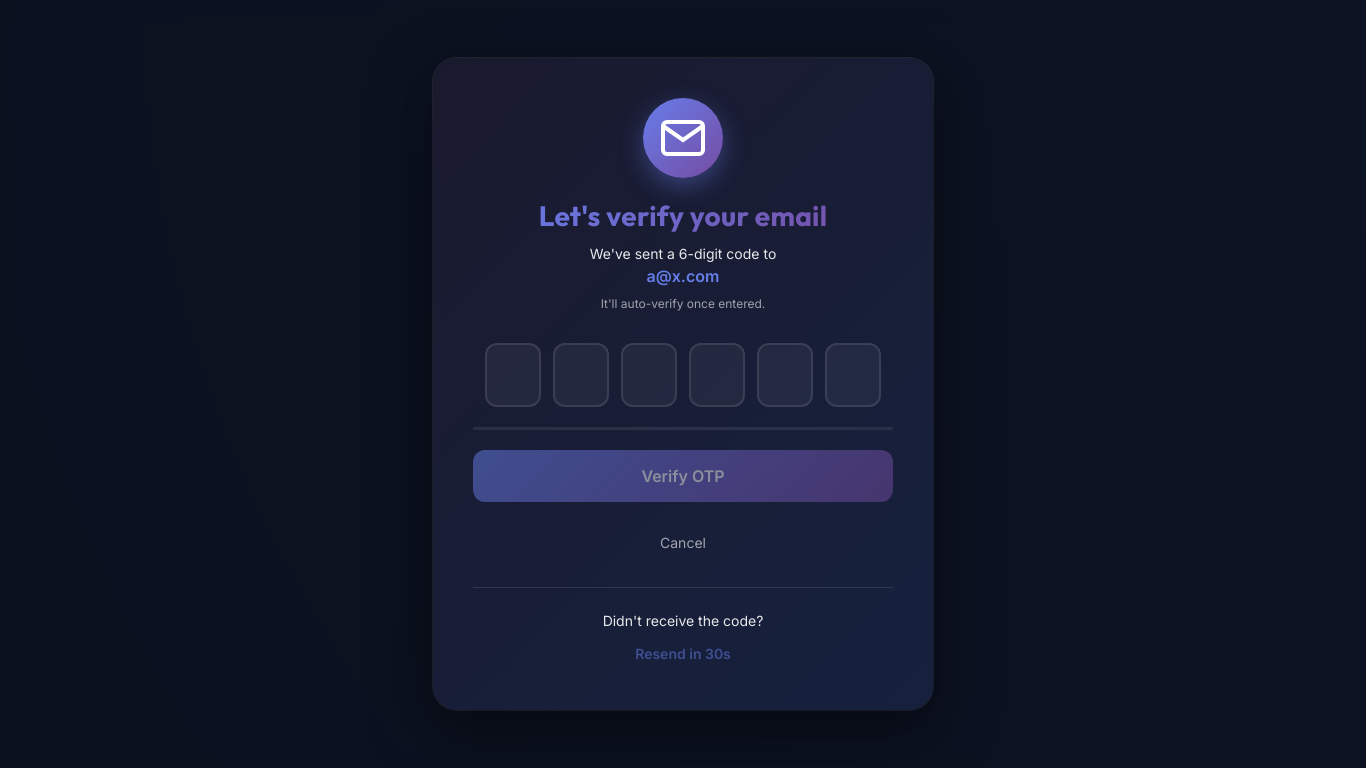
Test: a wrong code shows the server message and clears the boxes
Type "0" into the 1st field with class "otp-input" at (513, 375), box [487, 345, 539, 405]
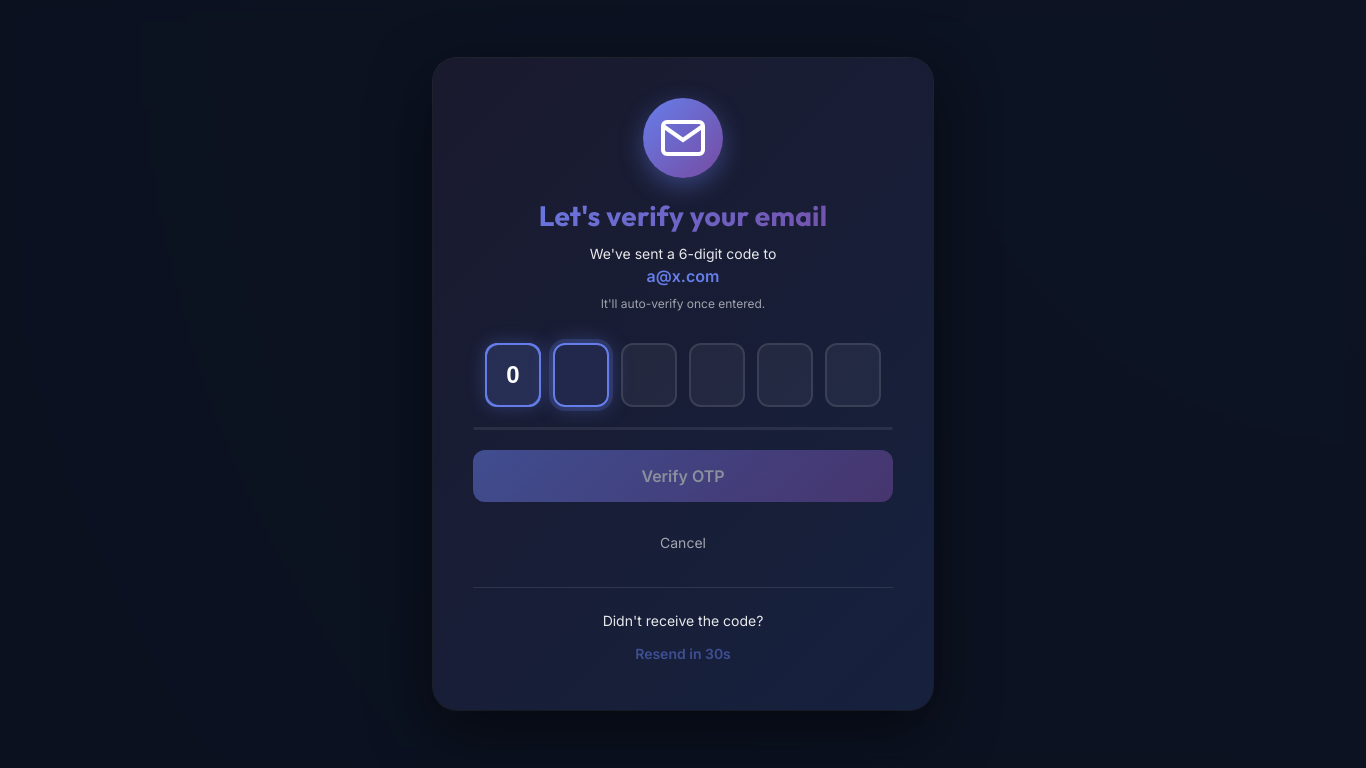
Type "0" into the 2nd field with class "otp-input" at (581, 375), box [555, 345, 607, 405]
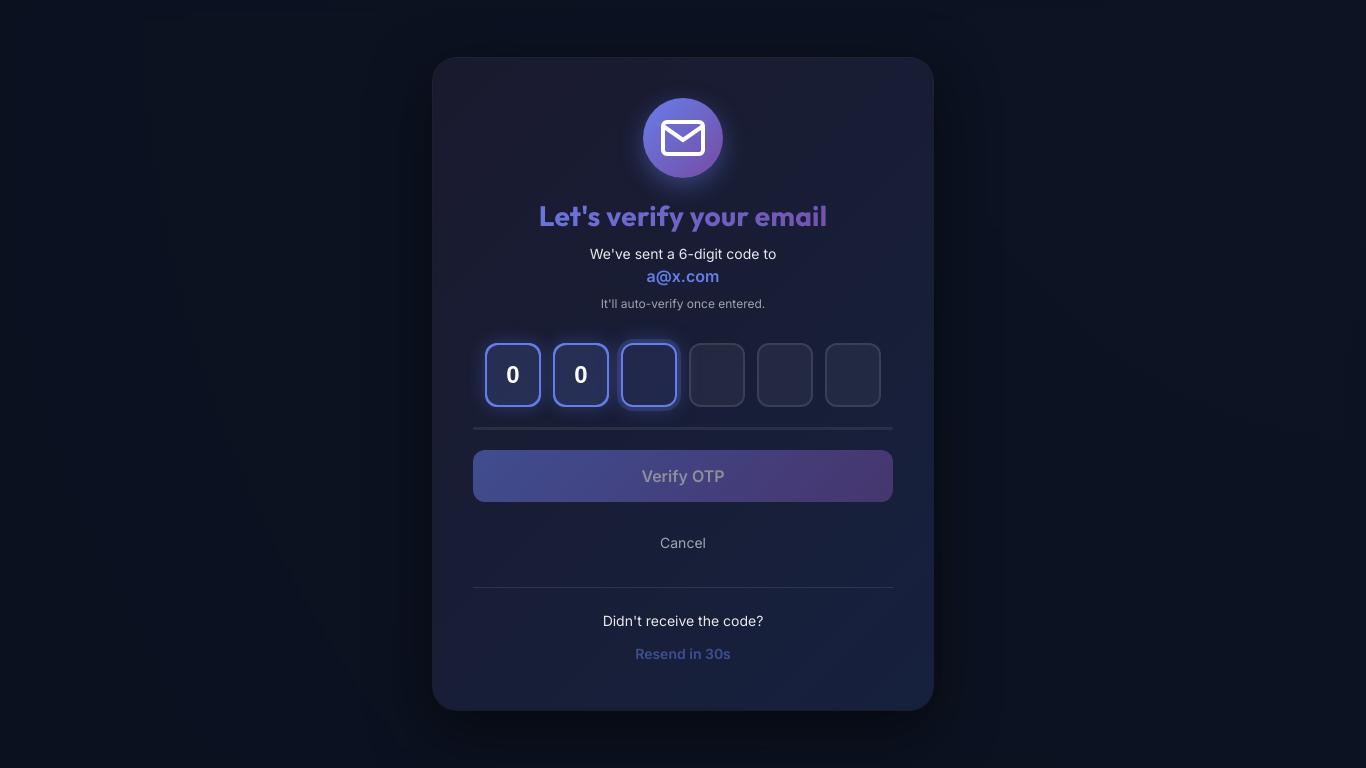
Type "0" into the 3rd field with class "otp-input" at (649, 375), box [623, 345, 675, 405]
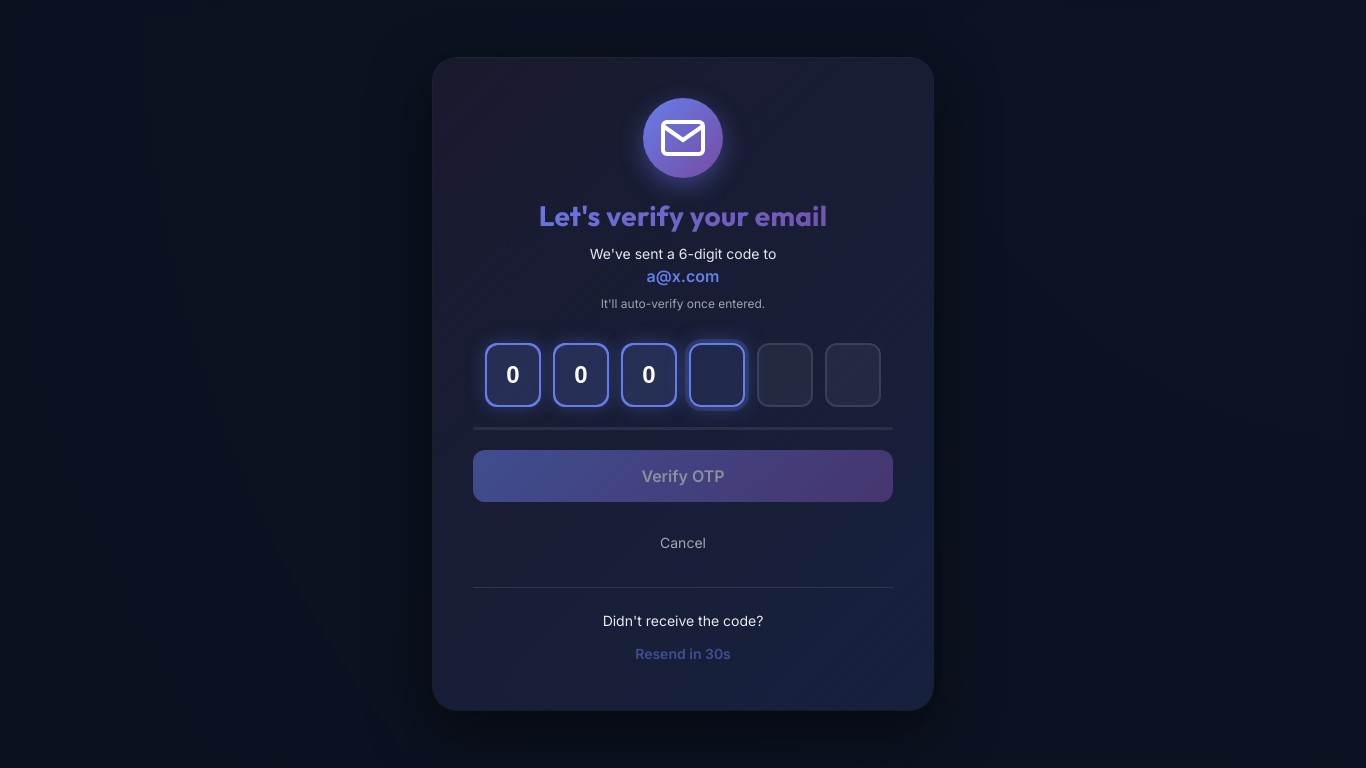
Type "0" into the 4th field with class "otp-input" at (717, 375), box [691, 345, 743, 405]
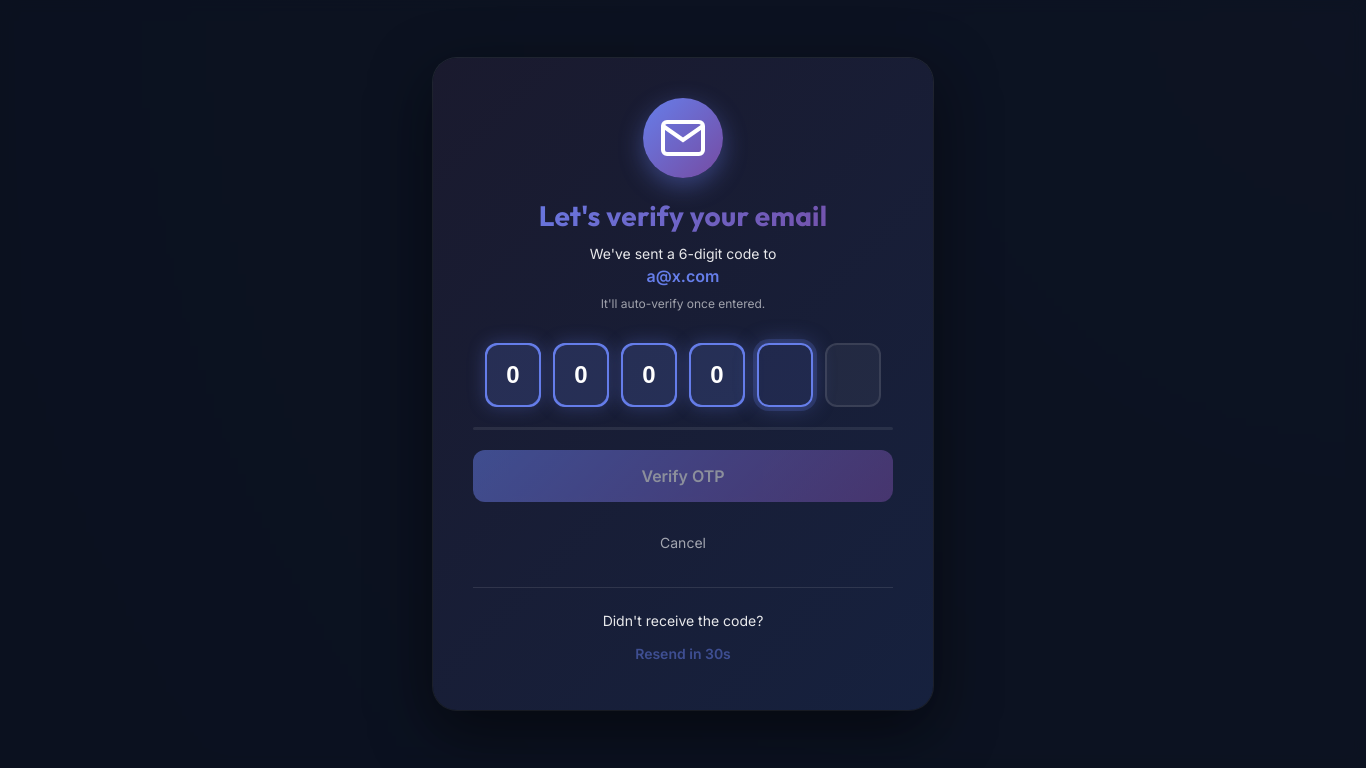
Type "0" into the 5th field with class "otp-input" at (785, 375), box [759, 345, 811, 405]
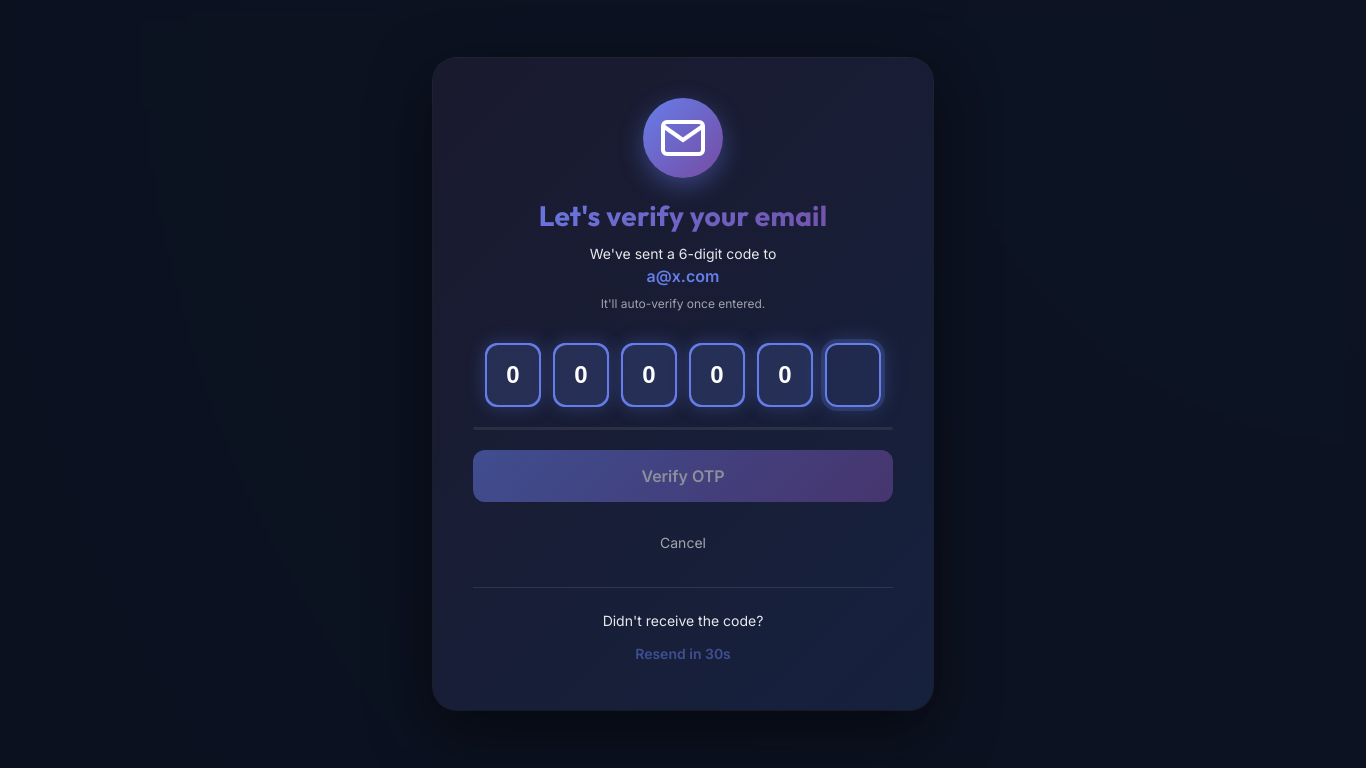
Type "0" into the 6th field with class "otp-input" at (853, 375), box [827, 345, 879, 405]
Wait 1000 ms
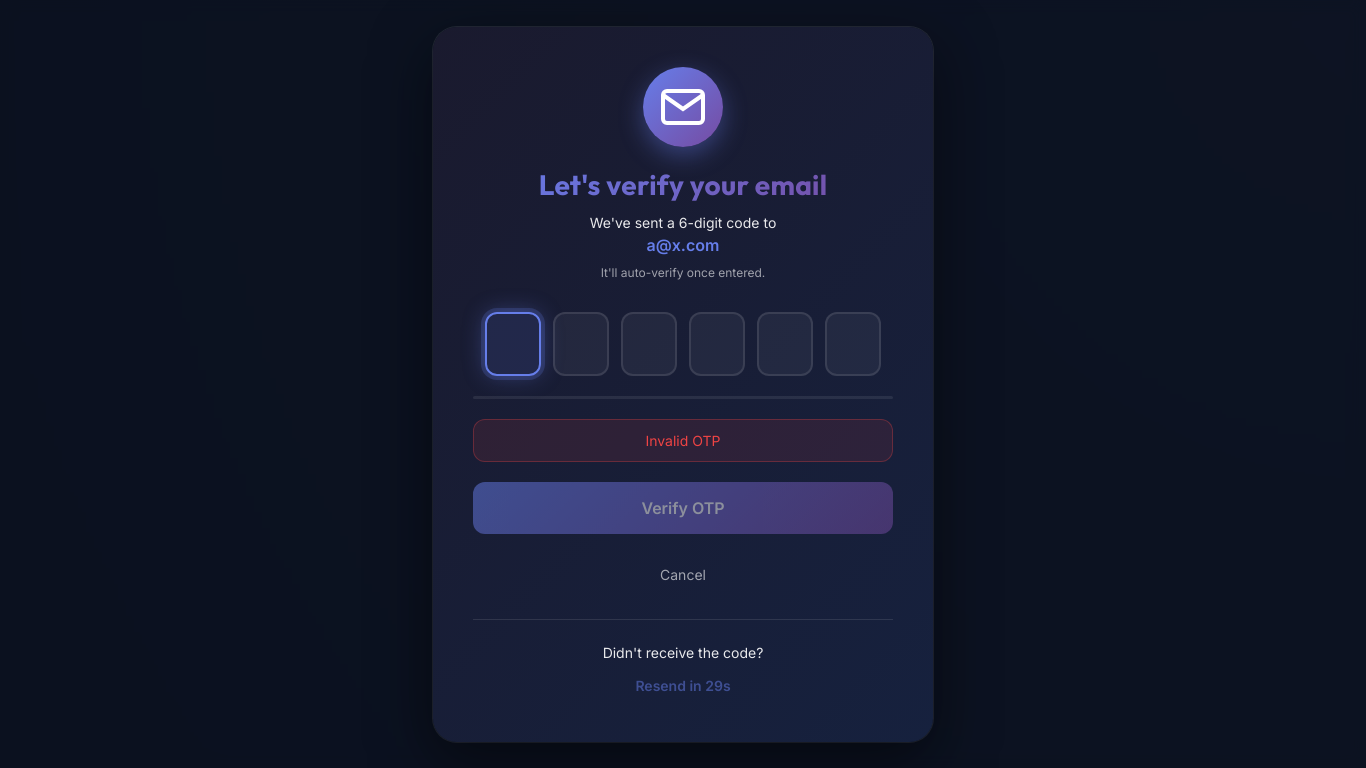
Now the text "Invalid OTP" is shown, box [473, 418, 893, 462]
